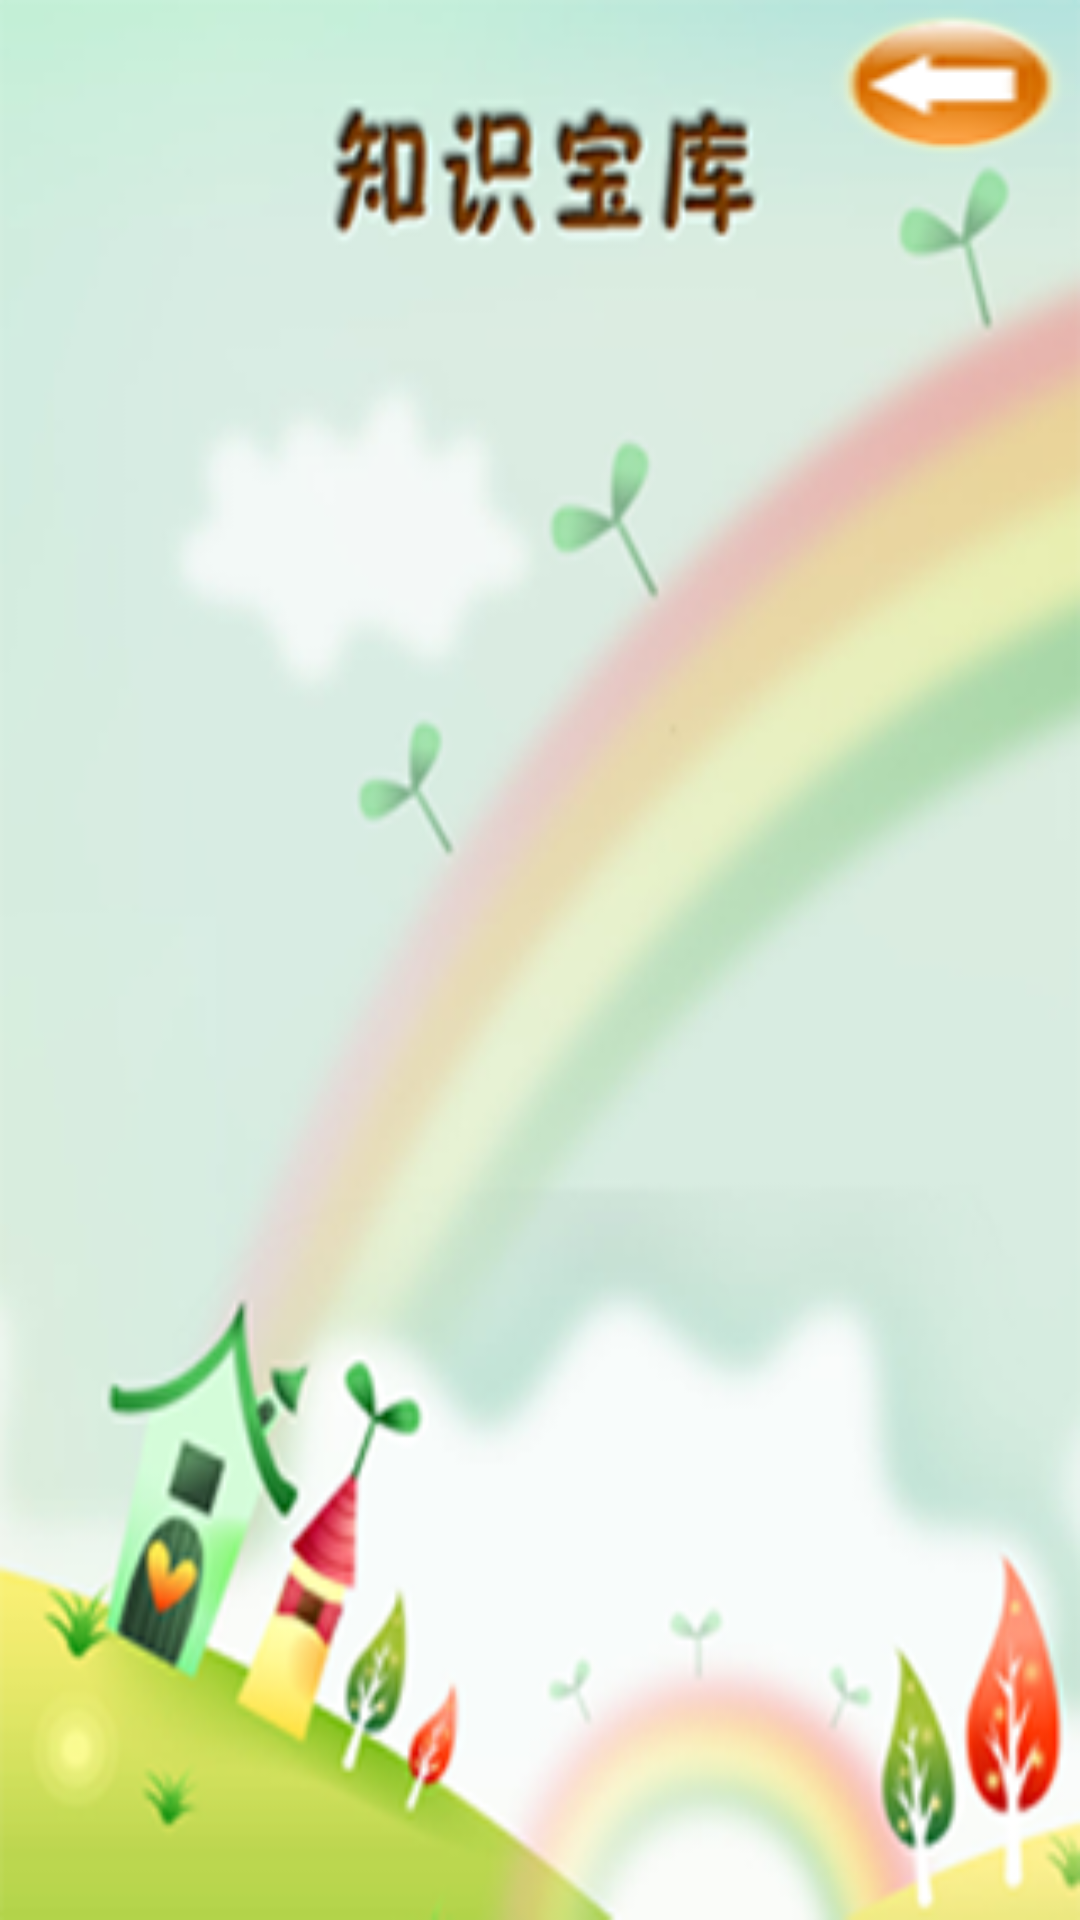

Icons on this 1080 × 1920 Android screen, each with its box as [x1=x1, y1=y1, x2=x2, y2=y2]:
goback: [x1=847, y1=21, x2=1053, y2=148]
